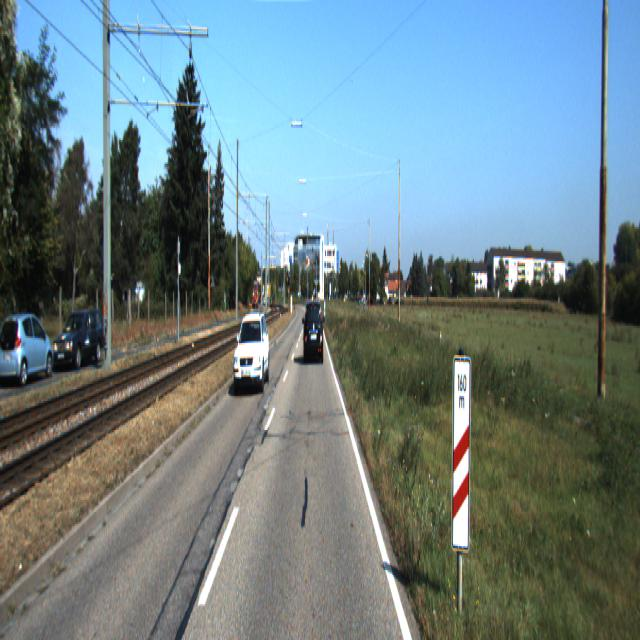Car: (0, 308, 55, 388), (50, 307, 105, 376), (234, 312, 271, 394), (304, 298, 324, 364)
